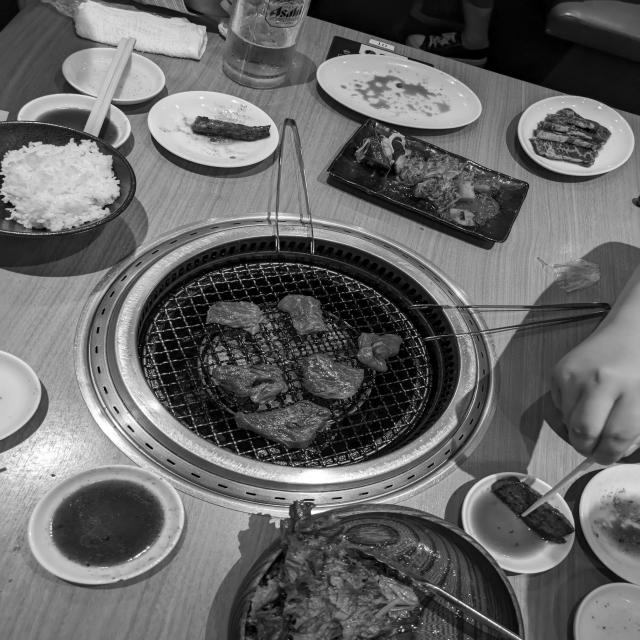NG raw beef,: (225, 394, 341, 455), (203, 358, 299, 409), (293, 351, 372, 405), (194, 297, 277, 340), (272, 291, 338, 340), (353, 329, 405, 380)
